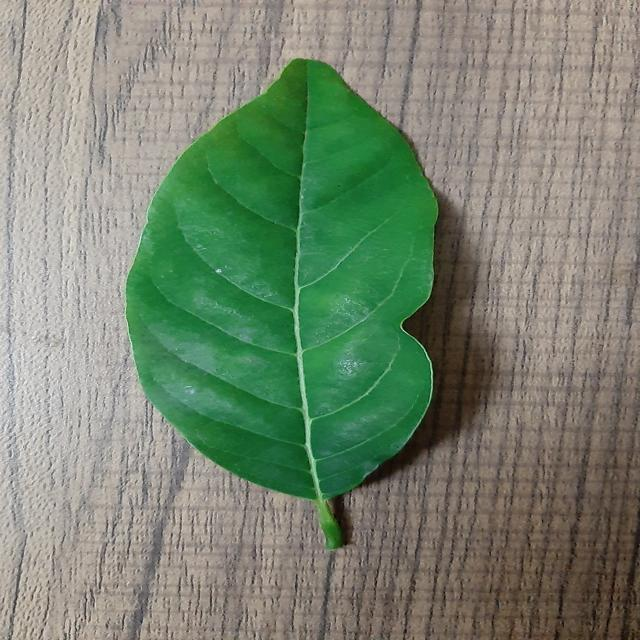seethaphala: (127, 59, 436, 550)
